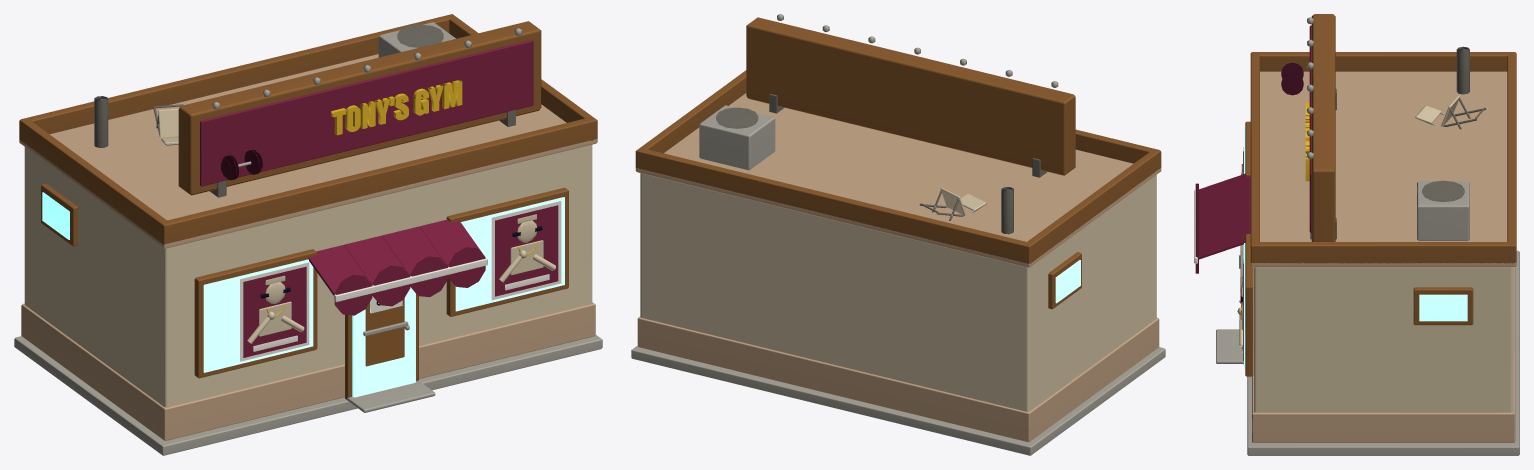
File: tony_gym.glb
3 views of the same model, side by side, from view 1: azimuth 30°, elevation 25°; view 2: azimuth 150°, elevation 25°; view 3: azimuth 270°, elevation 25° (orthographic). The views are drawn at different scales.
Parts seen in each view (by area): view 1: TonyGym.001; view 2: TonyGym.001; view 3: TonyGym.001.
Boxes of the visible parts, left/top/right/bottom form: TonyGym.001: left=14, top=14, right=602, bottom=455; TonyGym.001: left=631, top=14, right=1165, bottom=455; TonyGym.001: left=1194, top=14, right=1519, bottom=455.
Size of the model in its own units: 7 by 4.68 by 4.9.
